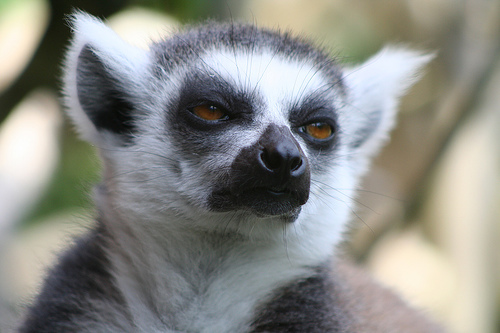cat: (18, 10, 433, 332)
